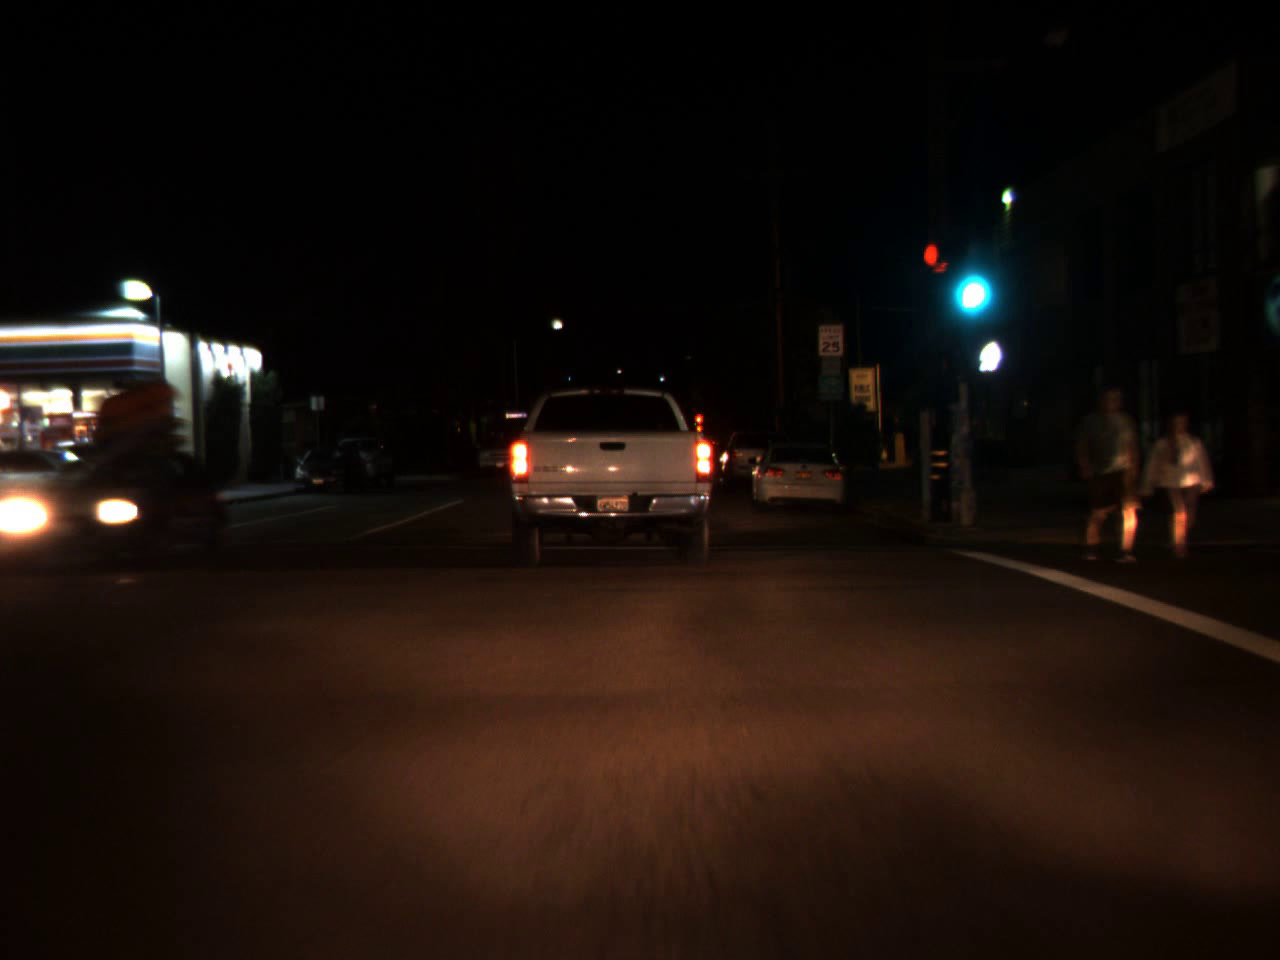go: (943, 236, 993, 323)
stop: (694, 415, 703, 436)
